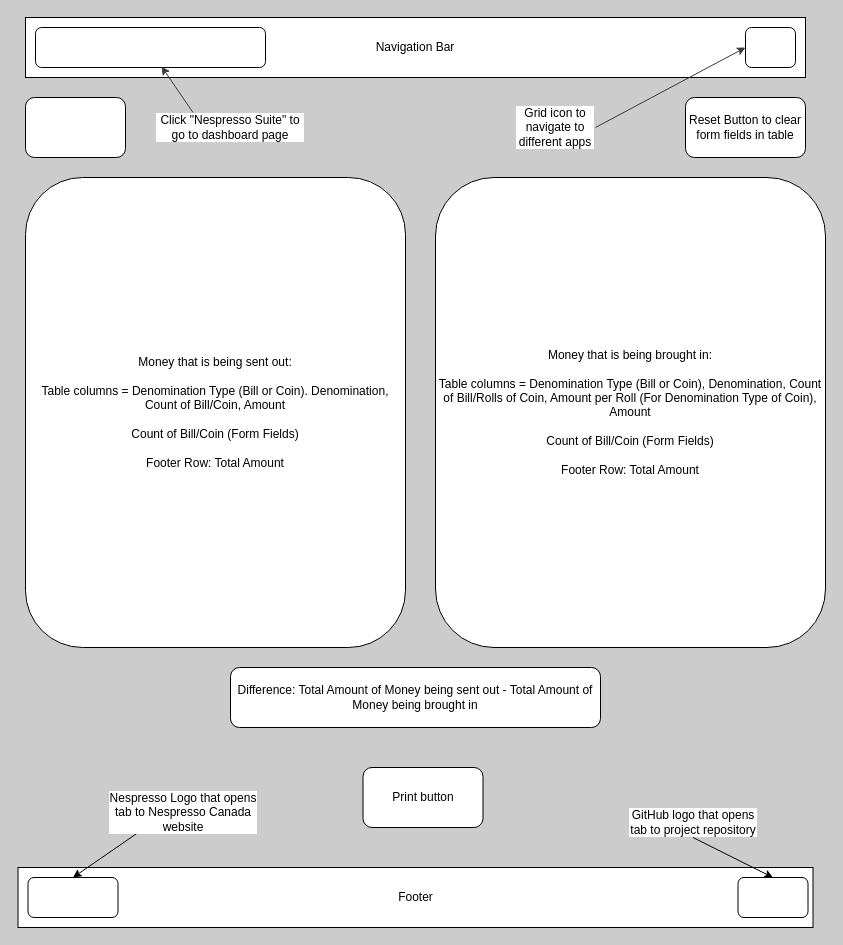
Image size: 843x945. Some labels were removed from this diagram. Here are the shapes that lost their labels. From the top down, the centre of each, then its label:
At pixel 150 47: "Nespresso Suite Title & Logo".
At pixel 75 127: "Heading".
